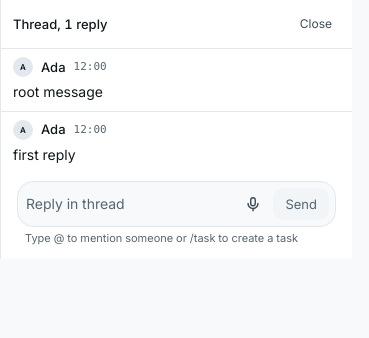
Scenario: ThreadPanel › shows the root and replies and posts a reply with thread_id
Expected: the text "root message" is shown, [13,83,103,100]
Expected: the text "first reply" is shown, [13,146,76,163]
Type "second" into the text box labelled "Reply" at (130, 204), box [26,188,233,220]
Then press Enter
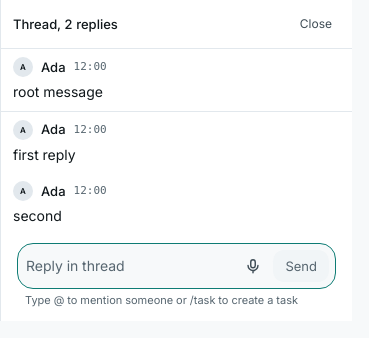
Now the text "second" is shown, box [13,207,62,224]
